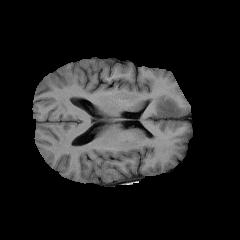glioma: (146, 95, 179, 116)
